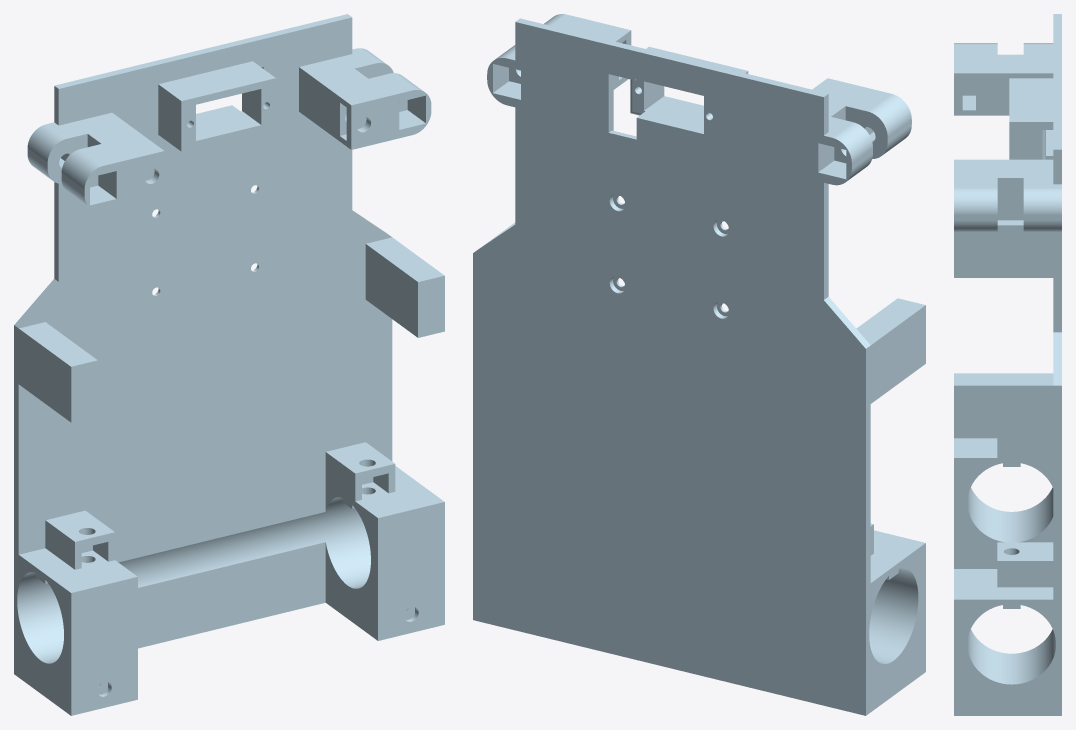
Rendered from lowerbody.gltf.
3 views of the same model, side by side, from view 1: azimuth 30°, elevation 25°; view 2: azimuth 150°, elevation 25°; view 3: azimuth 270°, elevation 25° (orthographic). The views are drawn at different scales.
Visible parts, largest first — view 1: mesh1487, mesh1441, mesh1440, mesh1428, mesh1435, mesh1456, mesh1455, mesh1470, mesh1380, mesh1393, mesh1417, mesh1364 (+18 smaller); view 2: mesh1516, mesh1428, mesh1441, mesh1380, mesh1383, mesh1501, mesh1450, mesh1429, mesh1393, mesh1366, mesh1374, mesh1379; view 3: mesh1467, mesh1441, mesh1439, mesh1431, mesh1393, mesh1380, mesh1363, mesh1462, mesh1491, mesh1459, mesh1494, mesh1468 (+16 smaller).
Part boxes in pixels (<box>): mesh1487: <box>18,17,392,562</box>; mesh1441: <box>17,497,370,663</box>; mesh1440: <box>138,542,325,648</box>; mesh1428: <box>14,325,71,715</box>; mesh1435: <box>71,577,137,715</box>; mesh1456: <box>378,502,444,640</box>; mesh1455: <box>325,452,377,640</box>; mesh1470: <box>365,244,417,337</box>; mesh1380: <box>46,112,163,165</box>; mesh1393: <box>299,48,412,105</box>; mesh1417: <box>351,90,431,149</box>; mesh1364: <box>84,151,164,210</box>; mesh1516: <box>473,22,865,715</box>; mesh1428: <box>866,305,925,715</box>; mesh1441: <box>869,568,918,663</box>; mesh1380: <box>812,78,891,137</box>; mesh1383: <box>515,18,827,96</box>; mesh1501: <box>637,96,703,133</box>; mesh1450: <box>870,530,925,582</box>; mesh1429: <box>856,298,925,344</box>; mesh1393: <box>507,14,630,60</box>; mesh1366: <box>868,94,911,136</box>; mesh1374: <box>845,106,887,158</box>; mesh1379: <box>832,122,872,162</box>; mesh1467: <box>954,385,1061,715</box>; mesh1441: <box>967,487,1055,684</box>; mesh1439: <box>954,438,1053,568</box>; mesh1431: <box>954,225,1053,277</box>; mesh1393: <box>954,159,1061,187</box>; mesh1380: <box>954,45,1053,73</box>; mesh1363: <box>954,73,1053,115</box>; mesh1462: <box>954,569,1053,599</box>; mesh1491: <box>1009,78,1053,121</box>; mesh1459: <box>997,561,1053,587</box>; mesh1494: <box>1009,122,1053,159</box>; mesh1468: <box>954,373,1053,385</box>.
Bounding box in the file's own units: 0.14 × 0.2072 × 0.037.
